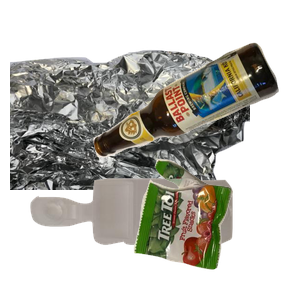glass: (91, 40, 300, 190)
metal: (10, 47, 250, 227)
plastic: (28, 176, 253, 300)
trash: (131, 156, 300, 300)
